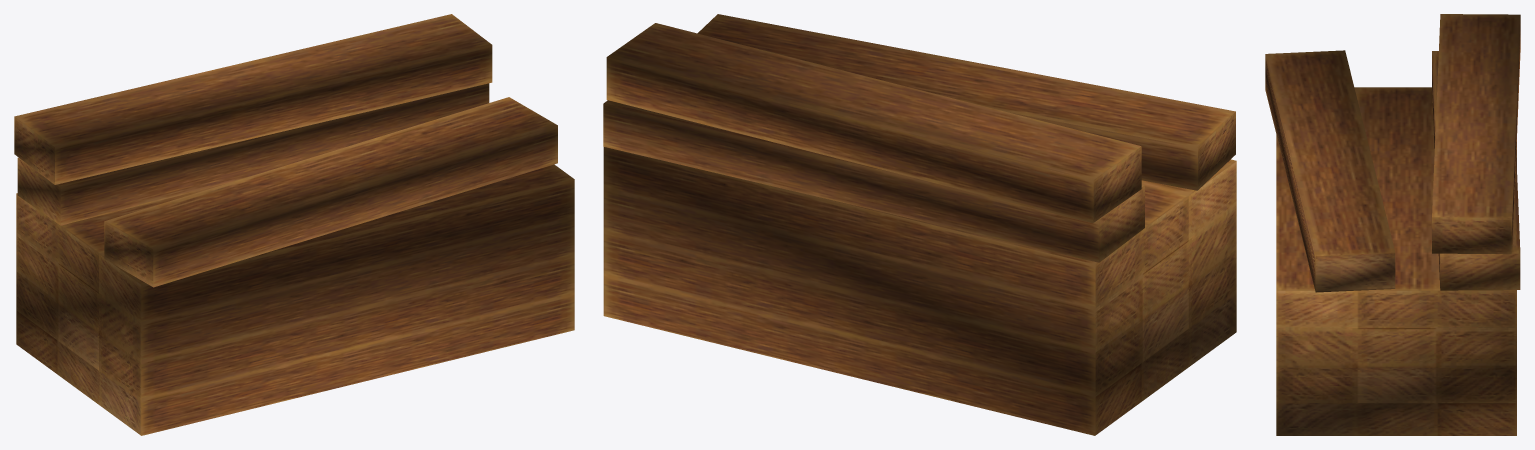
Rendered from deadminelumberpilelarge.obj.
3 renders of one model, left to right at view 1: azimuth 30°, elevation 25°; view 2: azimuth 150°, elevation 25°; view 3: azimuth 270°, elevation 25°, orthographic. The views are drawn at different scales.
Visible parts, largest first — view 1: DEADMINELUMBERPILELARGE0; view 2: DEADMINELUMBERPILELARGE0; view 3: DEADMINELUMBERPILELARGE0.
Boxes of the visible parts, <box> form: DEADMINELUMBERPILELARGE0: <box>14,14,574,435</box>; DEADMINELUMBERPILELARGE0: <box>603,14,1236,435</box>; DEADMINELUMBERPILELARGE0: <box>1265,14,1520,435</box>.
Size of the model in its own units: 3.37 by 1.67 by 1.77.
1 material, 1 textured.
